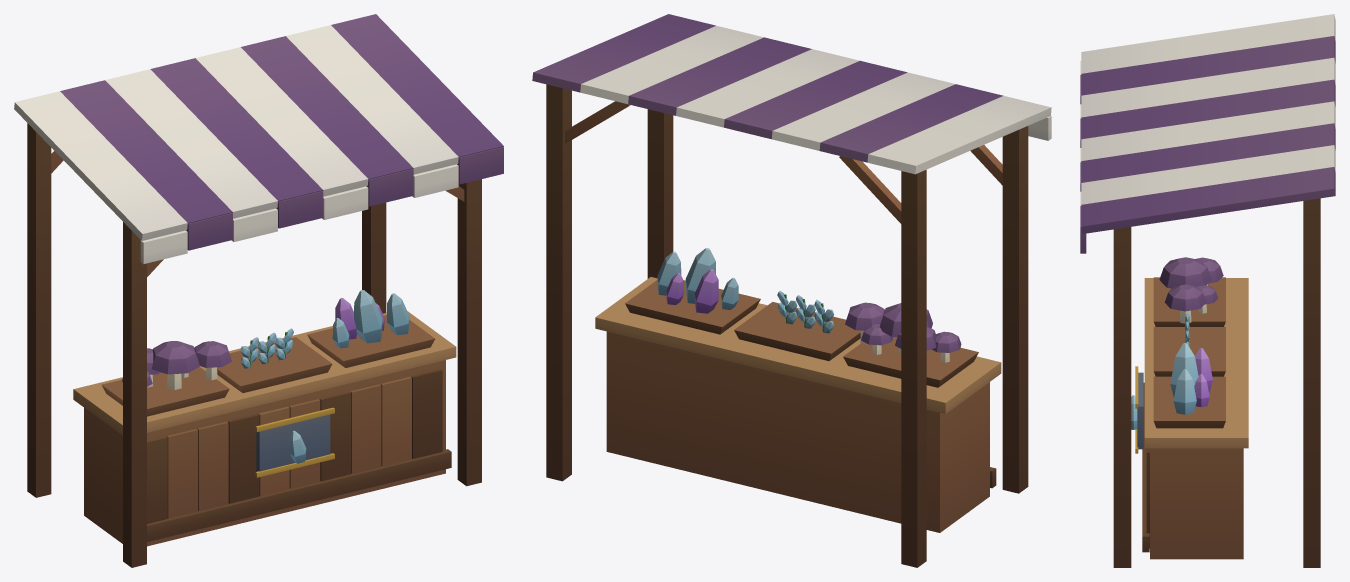
Rendered from stall_nyra.glb.
3 renders of one model, left to right at view 1: azimuth 30°, elevation 25°; view 2: azimuth 150°, elevation 25°; view 3: azimuth 270°, elevation 25°, orthographic. The views are drawn at different scales.
Parts seen in each view (by area): view 1: stall_nyra; view 2: stall_nyra; view 3: stall_nyra.
Boxes of the visible parts, x1,y1,x2,y2 form: stall_nyra: (14,14,503,567); stall_nyra: (532,14,1051,567); stall_nyra: (1080,14,1335,567).
Size of the model in its own units: 8.96 by 9.14 by 5.54.
Materials: 1 (1 with a texture image).
